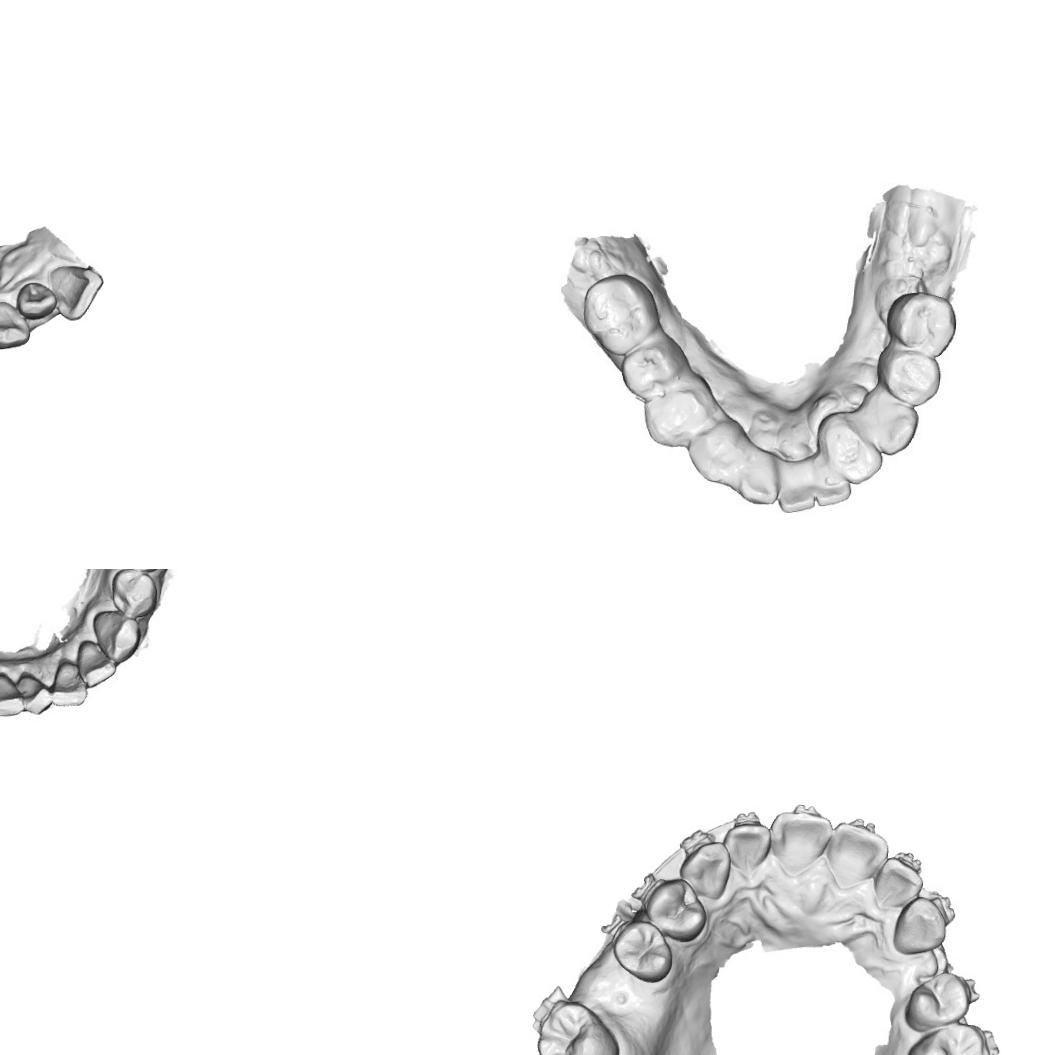canine: (891, 895, 947, 958), (867, 394, 920, 460), (677, 838, 732, 900), (685, 424, 737, 486), (96, 612, 142, 658), (0, 300, 32, 351)
incisor: (824, 820, 890, 890), (767, 808, 832, 877), (817, 422, 884, 484), (47, 263, 105, 323), (872, 850, 924, 913), (720, 820, 775, 876), (775, 460, 821, 514), (735, 454, 779, 508), (813, 460, 855, 508), (16, 281, 59, 321), (49, 660, 88, 704), (80, 640, 115, 684), (15, 674, 50, 714), (0, 671, 24, 718)
molar: (579, 270, 663, 358), (531, 996, 622, 1055), (903, 1018, 996, 1055)
premolar: (882, 290, 962, 356), (900, 968, 972, 1036), (641, 384, 709, 454), (642, 875, 710, 944), (874, 345, 942, 410), (610, 917, 675, 985), (618, 338, 682, 404), (112, 571, 158, 619)
